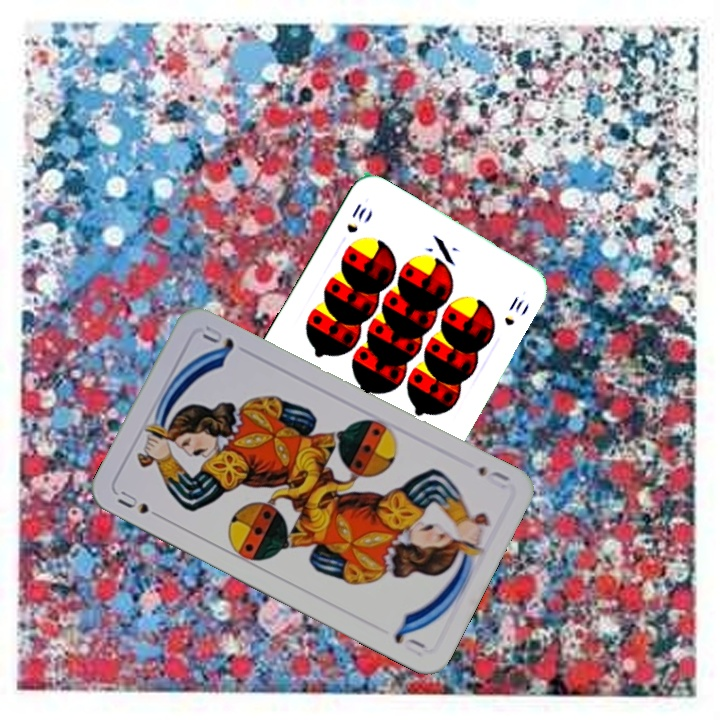S10: (342, 199, 369, 236)
SU: (113, 486, 168, 522), (473, 462, 513, 492)
